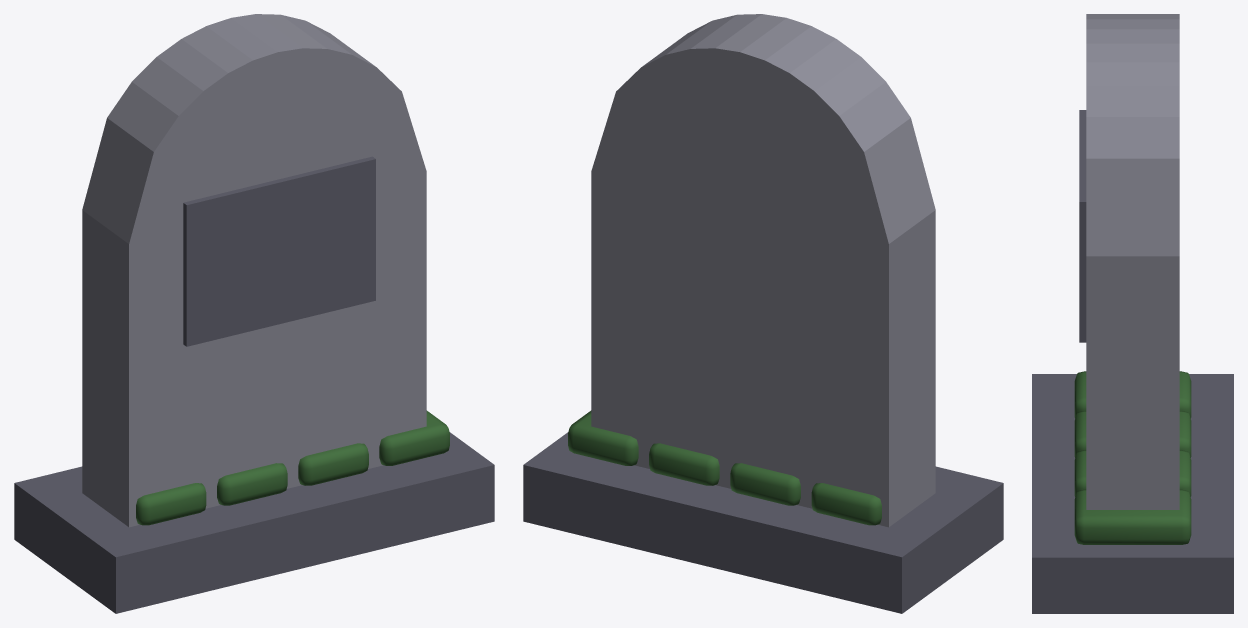
Rendered from gravestone.glb.
The picture shows the model from 3 angles, left to right: view 1: azimuth 30°, elevation 25°; view 2: azimuth 150°, elevation 25°; view 3: azimuth 270°, elevation 25°; orthographic projection.
Visible parts, largest first — view 1: gravestone; view 2: gravestone; view 3: gravestone.
Part boxes in pixels (left/top/right/bottom): gravestone: left=14, top=14, right=494, bottom=613; gravestone: left=523, top=14, right=1003, bottom=613; gravestone: left=1032, top=14, right=1233, bottom=613.
Bounding box in the file's own units: 0.56 × 0.7 × 0.26.
